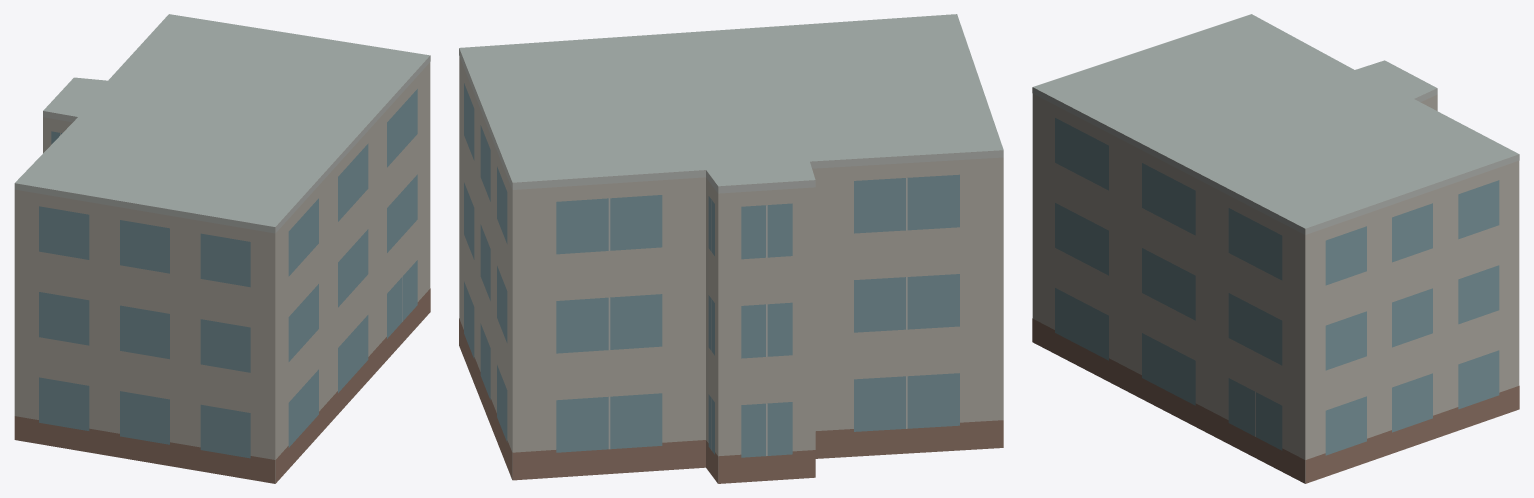
Rendered from survey-upis-32998070.glb.
3 renders of one model, left to right at view 1: azimuth 30°, elevation 25°; view 2: azimuth 150°, elevation 25°; view 3: azimuth 270°, elevation 25°, orthographic. The views are drawn at different scales.
Visible parts, largest first — view 1: survey-upis-32998070.tmp; view 2: survey-upis-32998070.tmp; view 3: survey-upis-32998070.tmp.
Part boxes in pixels (x1,y1,x2,y2): survey-upis-32998070.tmp: (14,14,430,483); survey-upis-32998070.tmp: (459,14,1003,483); survey-upis-32998070.tmp: (1032,14,1519,483).
Bounding box in the file's own units: 17.88 × 9.9 × 17.13.
